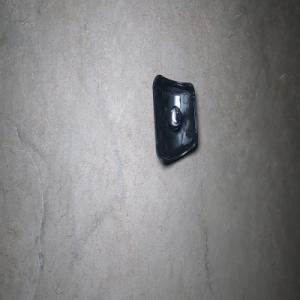LuggagePart: (151, 73, 198, 165)
